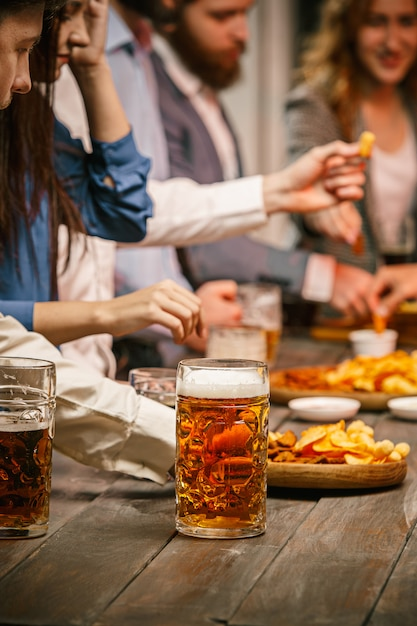alcohol: (177, 358, 268, 543), (0, 352, 54, 545), (217, 282, 280, 358), (205, 330, 271, 388)
